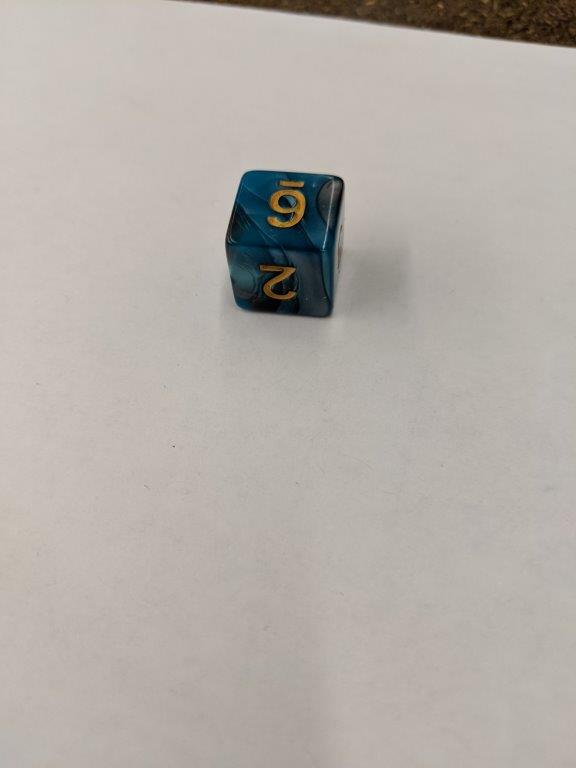d6-6: (225, 168, 347, 322)
